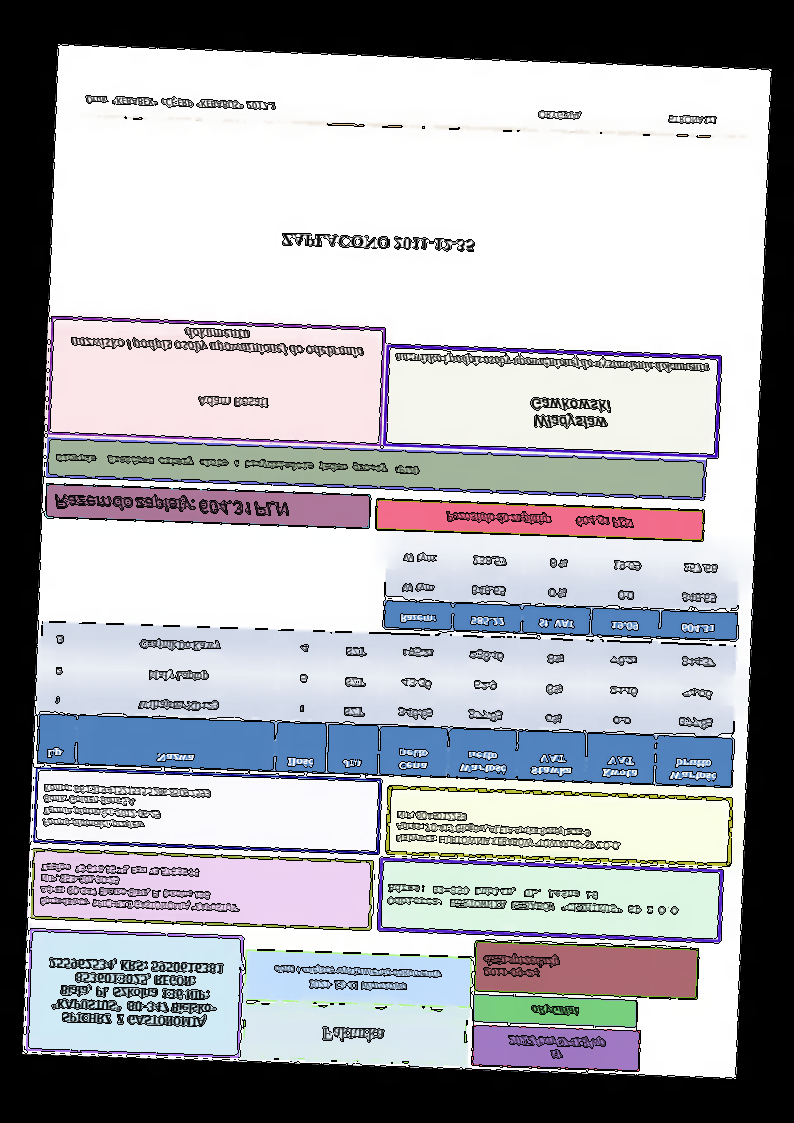Table: (36, 620, 737, 788), (383, 537, 741, 641)
TextBox: (44, 956, 225, 1030), (386, 881, 685, 919), (68, 323, 365, 360), (38, 861, 243, 914), (393, 809, 624, 852), (54, 451, 423, 477), (41, 782, 213, 834), (393, 348, 711, 376), (50, 490, 294, 519), (270, 962, 443, 995), (279, 230, 479, 256), (442, 508, 635, 531), (83, 93, 278, 113), (503, 1030, 607, 1064), (529, 395, 613, 433), (481, 950, 562, 979), (320, 1024, 386, 1044), (194, 394, 269, 410), (528, 1002, 581, 1019), (665, 112, 718, 126), (536, 108, 582, 122)
